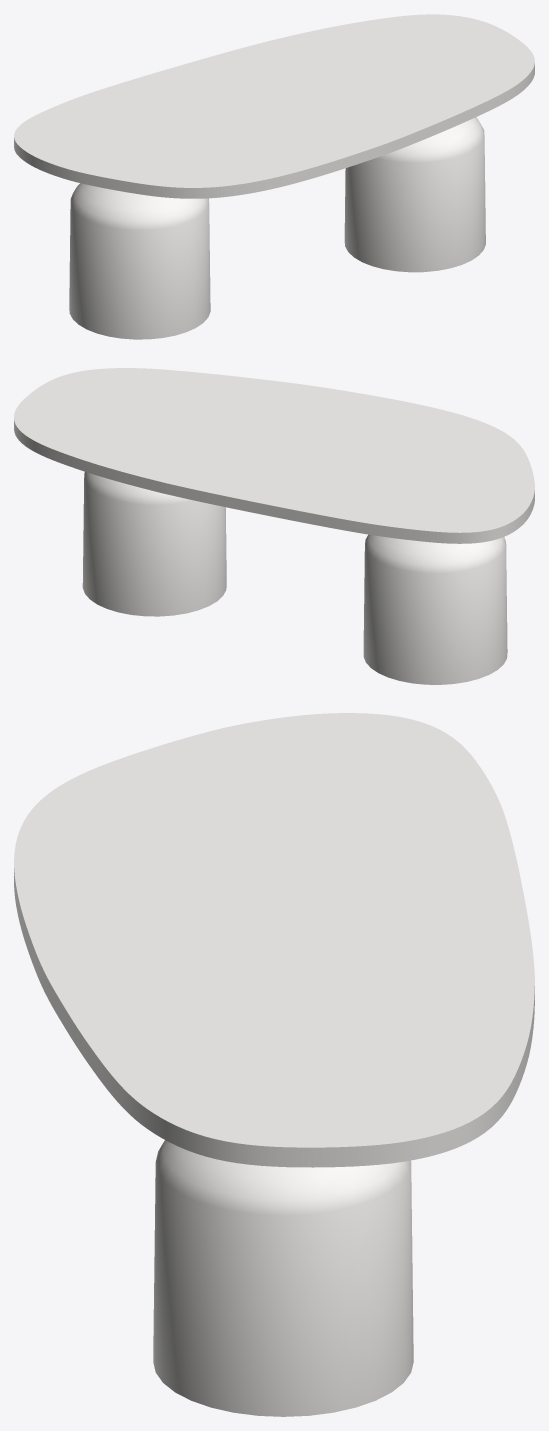
File: purewhite_leaf2_standard_tornado.glb
3 views of the same model, one above another, from view 1: azimuth 30°, elevation 25°; view 2: azimuth 150°, elevation 25°; view 3: azimuth 270°, elevation 25° (orthographic). The views are drawn at different scales.
Parts seen in each view (by area): view 1: standard_leaf2, tornado; view 2: standard_leaf2, tornado; view 3: standard_leaf2, tornado.
Part boxes in pixels (<box>): standard_leaf2: <box>14,14,534,198</box>; tornado: <box>69,117,485,339</box>; standard_leaf2: <box>14,368,534,543</box>; tornado: <box>82,472,507,684</box>; standard_leaf2: <box>14,713,534,1167</box>; tornado: <box>153,1140,413,1416</box>.
Bounding box in the file's own units: 7.5 × 2.52 × 3.8.
Materials: 1 (1 with a texture image).
